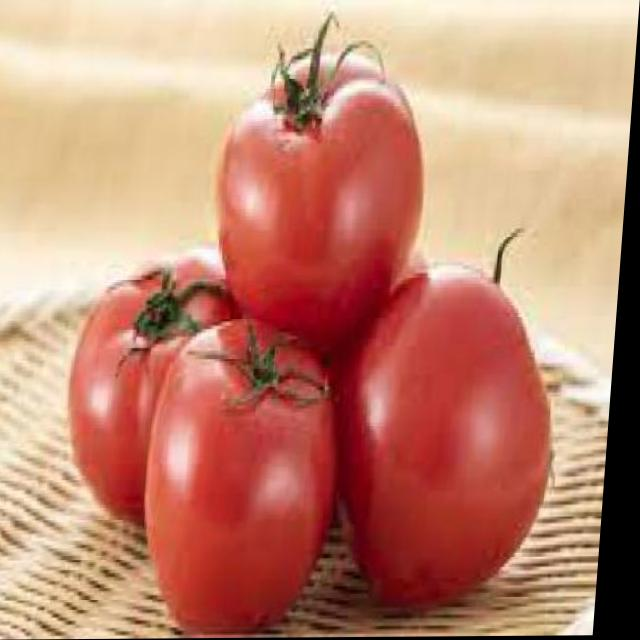kirmizi: (27, 37, 599, 640)
